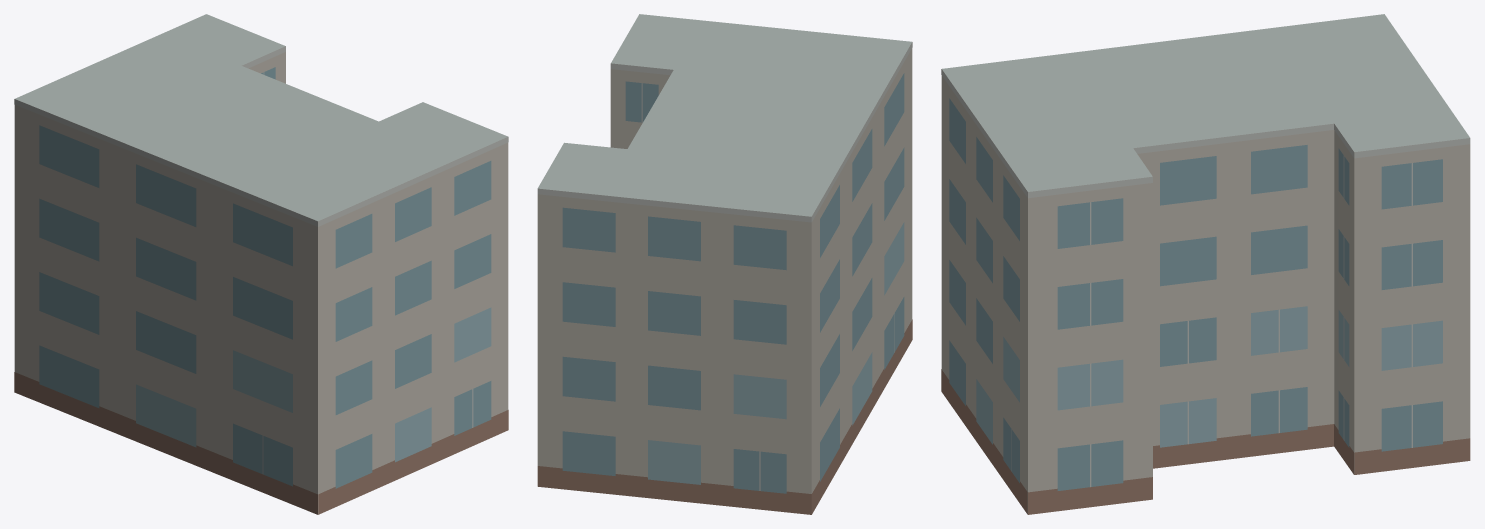
The model's file is survey-upis-32773770.glb.
3 renders of one model, left to right at view 1: azimuth 30°, elevation 25°; view 2: azimuth 150°, elevation 25°; view 3: azimuth 270°, elevation 25°, orthographic. The views are drawn at different scales.
Parts seen in each view (by area): view 1: survey-upis-32773770.tmp; view 2: survey-upis-32773770.tmp; view 3: survey-upis-32773770.tmp.
Part boxes in pixels (box(x1,y1,x2,y2)): survey-upis-32773770.tmp: box(14, 14, 508, 514); survey-upis-32773770.tmp: box(537, 14, 912, 514); survey-upis-32773770.tmp: box(941, 14, 1470, 514).
Bounding box in the file's own units: 15.03 × 12.7 × 18.86.
